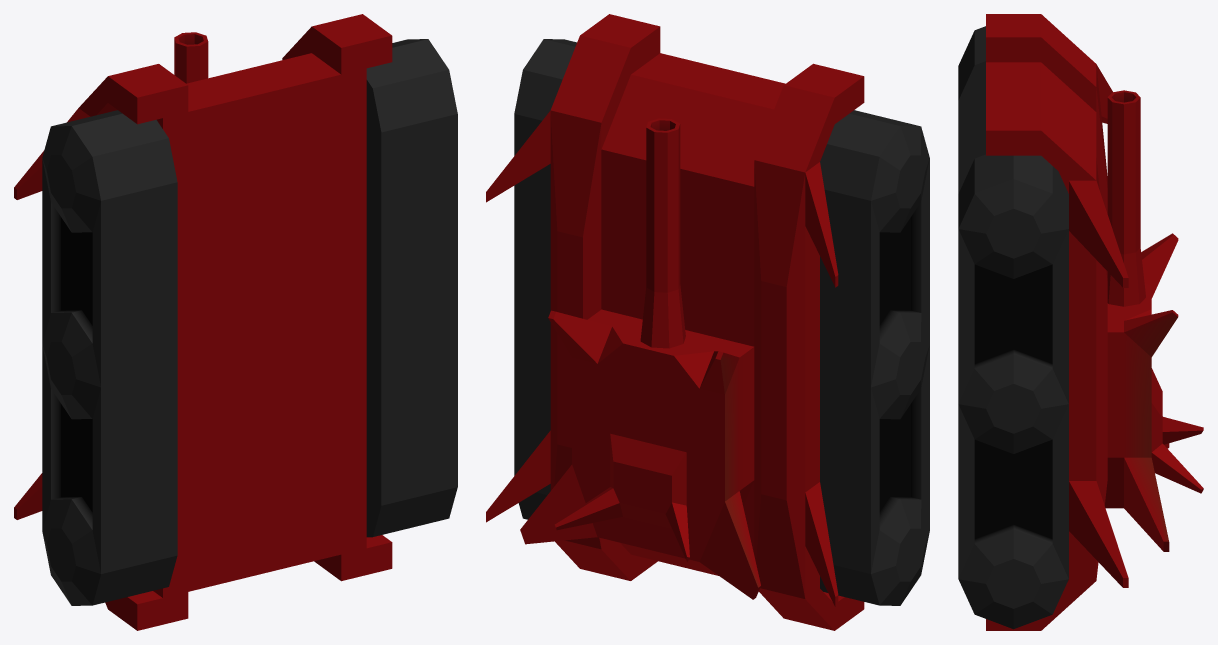
Rendered from TankagaEnemy.fbx.
3 renders of one model, left to right at view 1: azimuth 30°, elevation 25°; view 2: azimuth 150°, elevation 25°; view 3: azimuth 270°, elevation 25°, orthographic. The views are drawn at different scales.
Visible parts, largest first — view 1: Cube; view 2: Cube; view 3: Cube.
Part boxes in pixels (bbox=[...]): Cube: bbox=[14, 14, 457, 630]; Cube: bbox=[486, 14, 929, 630]; Cube: bbox=[958, 14, 1203, 630].
Size of the model in its own units: 370 by 500 by 222.
